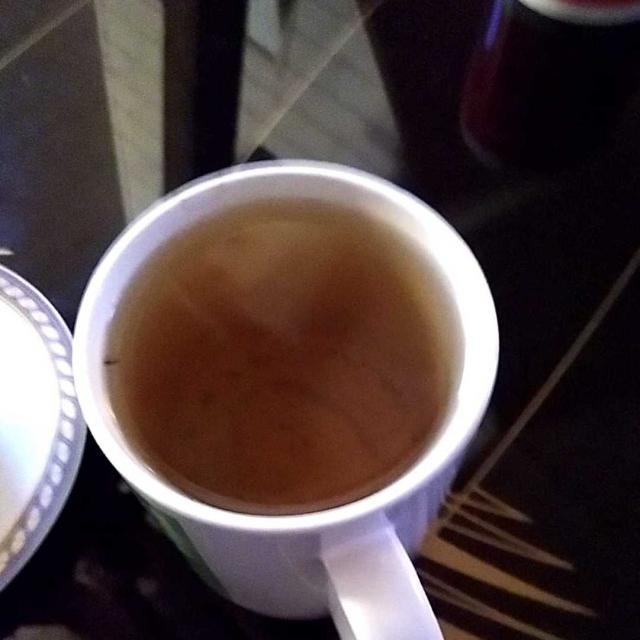tea: (116, 200, 453, 503)
